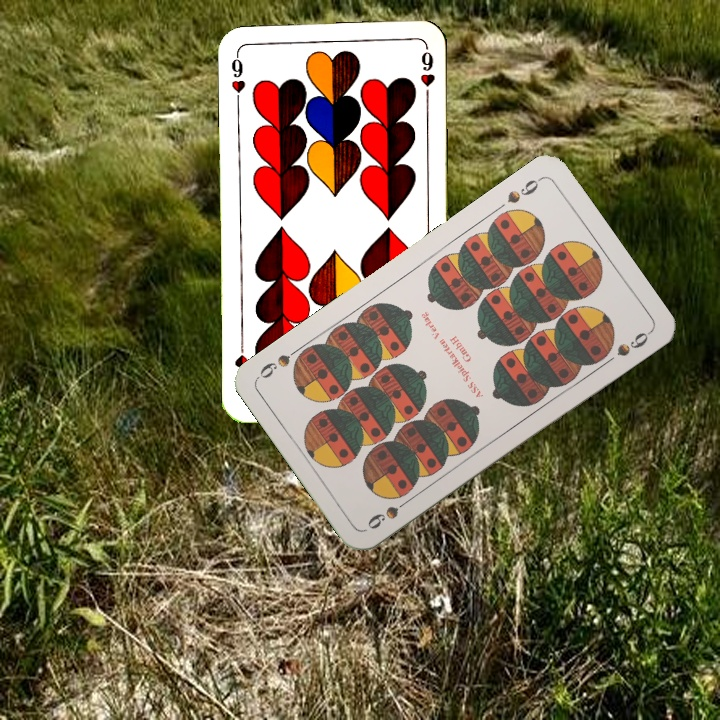H9: (227, 47, 248, 107)
S9: (363, 493, 415, 532), (503, 173, 545, 206)
